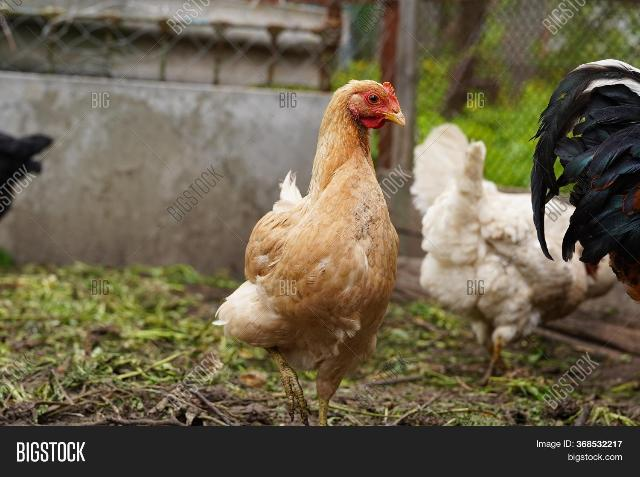Chicken: (215, 78, 411, 424), (413, 108, 633, 379), (537, 53, 640, 302)
